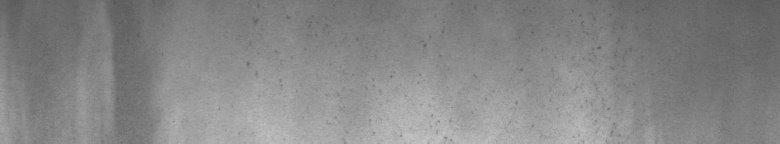ib: (246, 17, 328, 76)
